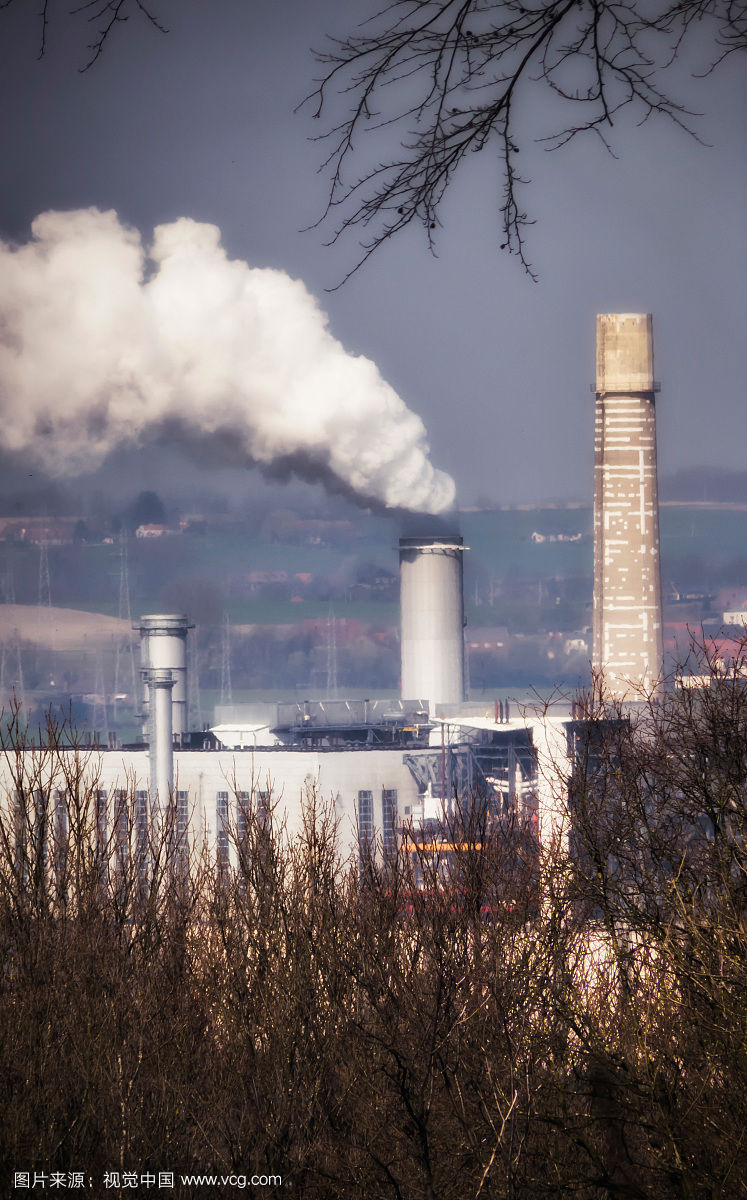dust: (20, 195, 509, 554)
